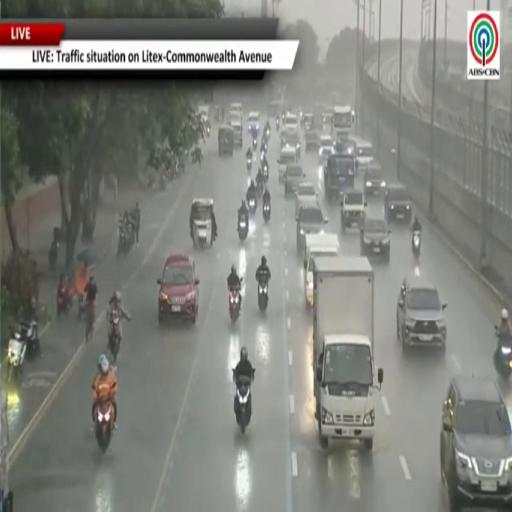bus: (332, 106, 355, 139)
car: (441, 376, 511, 511), (397, 274, 446, 353), (158, 254, 199, 324), (296, 202, 327, 254), (360, 217, 390, 260), (340, 189, 366, 231), (384, 184, 411, 221), (364, 162, 386, 197), (295, 182, 317, 215), (277, 147, 297, 183), (285, 164, 305, 197), (355, 140, 374, 169), (281, 132, 300, 158), (305, 126, 319, 152), (333, 138, 355, 154), (283, 112, 299, 133), (230, 121, 242, 148), (248, 111, 260, 135), (318, 147, 332, 166), (303, 112, 314, 130), (322, 111, 332, 130), (320, 135, 333, 149)
motorcycle: (6, 320, 40, 381), (233, 370, 255, 434), (6, 332, 27, 382), (95, 402, 113, 453), (494, 327, 511, 379), (108, 311, 121, 365), (56, 281, 74, 316), (117, 222, 134, 258), (48, 227, 62, 270), (84, 303, 96, 342), (230, 288, 241, 324), (48, 238, 59, 270), (258, 278, 268, 312), (238, 217, 248, 241), (412, 231, 420, 259), (77, 294, 85, 321), (248, 196, 257, 216), (262, 202, 270, 222), (262, 163, 269, 183), (159, 173, 166, 190), (257, 181, 263, 199), (260, 149, 266, 163), (261, 140, 267, 154), (247, 157, 252, 171), (265, 127, 270, 140), (252, 138, 257, 150), (206, 125, 211, 137), (276, 117, 279, 131)
truck: (313, 256, 383, 450), (304, 234, 339, 307), (324, 153, 355, 200)
